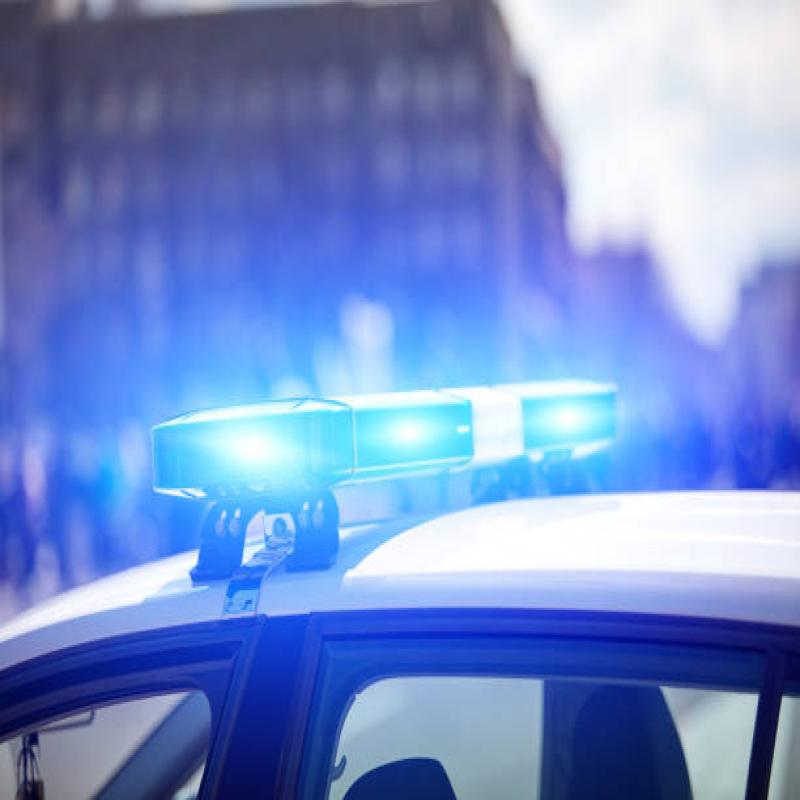AmbulanceSiren: (142, 330, 612, 497)
